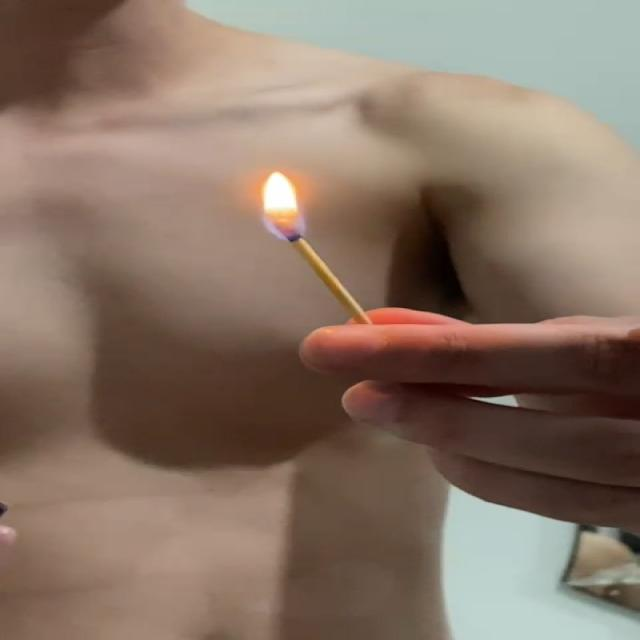fogo-ypXI: (256, 169, 306, 243)
